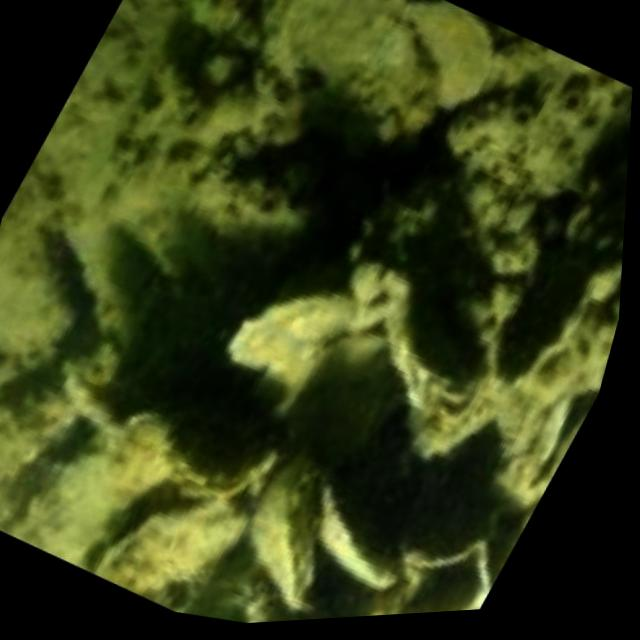Oyster-Closed: (99, 489, 244, 586), (244, 447, 317, 607)
Oyster-Indeterminate: (497, 155, 628, 386), (48, 413, 162, 527), (228, 283, 343, 371), (399, 0, 493, 105), (317, 489, 404, 589), (249, 580, 351, 623)
Oyster-Open: (148, 390, 274, 493)
